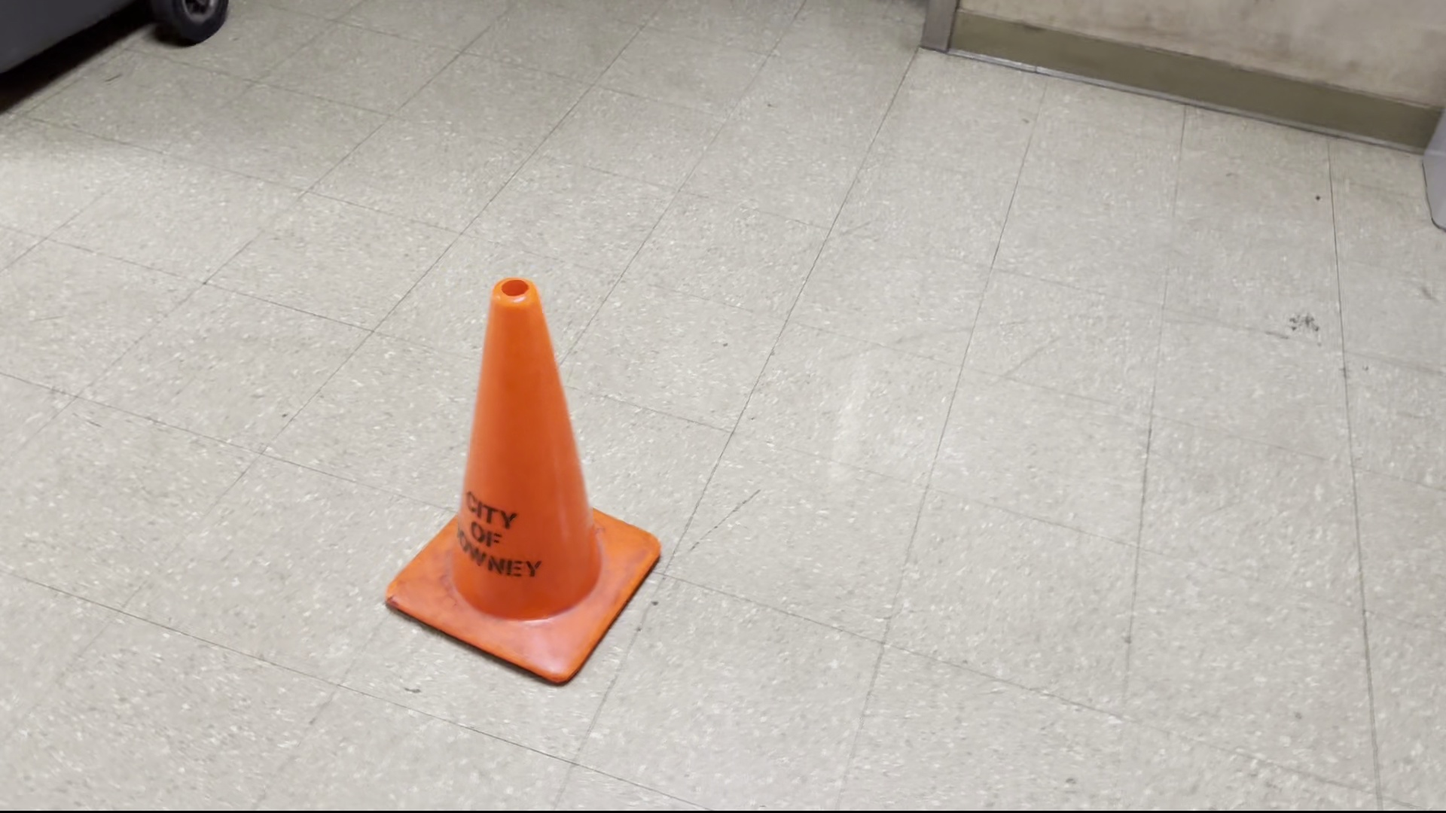traffic_cone: (384, 276, 661, 686)
